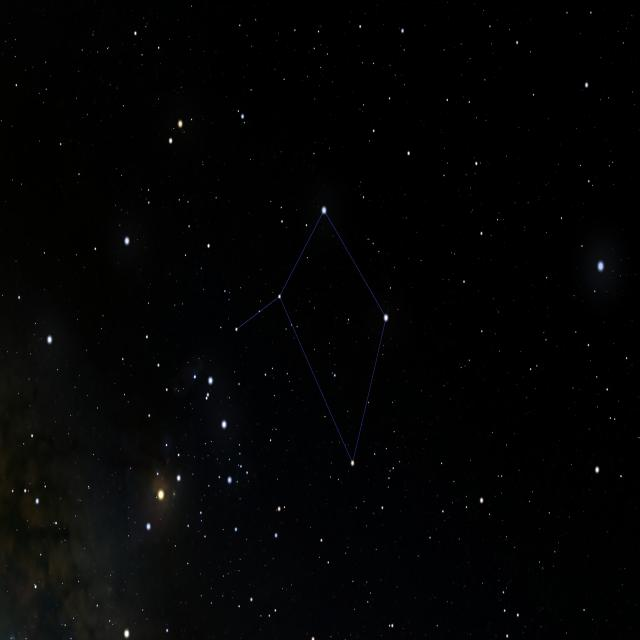Libra: (222, 176, 399, 478)
